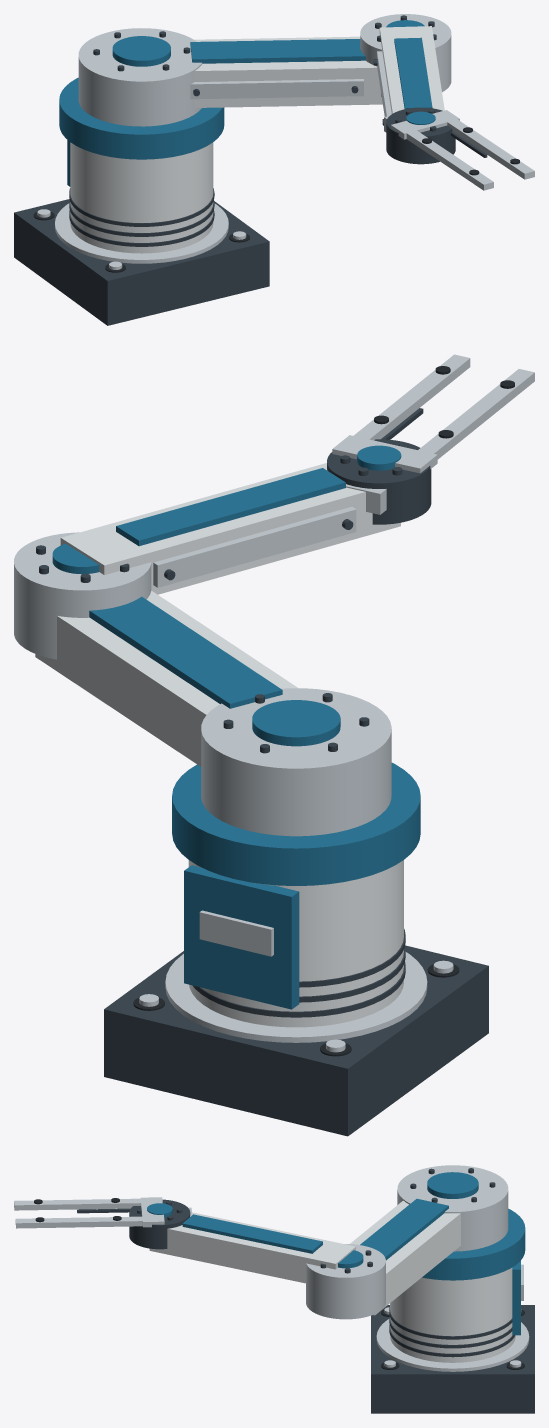
File: ATM_Robot.glb
The picture shows the model from 3 angles, top to bottom: view 1: azimuth 30°, elevation 25°; view 2: azimuth 150°, elevation 25°; view 3: azimuth 270°, elevation 25°; orthographic projection. The views are drawn at different scales.
Visible parts, largest first — view 1: Robot mounting block, Robot pedestal, Shoulder joint, Pedestal collar, Upper arm, Upper arm blue inset, Arm side reinforcement (×2), Pedestal lower flange, Ceramic end effector tine (×2), Forearm, Pedestal seal ring (×3), Elbow bearing (+4 smaller); view 2: Robot mounting block, Shoulder joint, Pedestal collar, Robot pedestal, Upper arm, Drive service cover, Forearm, Elbow bearing, Upper arm blue inset, Pedestal lower flange, Forearm inset, Arm side reinforcement (+6 smaller); view 3: Robot mounting block, Robot pedestal, Forearm, Shoulder joint, Elbow bearing, Upper arm, Pedestal collar, Ceramic end effector tine (×2), Upper arm blue inset, Pedestal lower flange, Forearm inset, Pedestal seal ring (×3) (+4 smaller).
Part boxes in pixels (x1,y1,x2,y2): Robot mounting block: [14, 199, 269, 325]; Robot pedestal: [70, 142, 213, 253]; Shoulder joint: [78, 28, 202, 126]; Pedestal collar: [59, 77, 224, 159]; Upper arm: [194, 36, 382, 107]; Upper arm blue inset: [190, 39, 365, 63]; Arm side reinforcement (×2): [190, 51, 391, 116]; Pedestal lower flange: [55, 203, 228, 263]; Ceramic end effector tine (×2): [396, 112, 534, 190]; Forearm: [379, 26, 444, 113]; Pedestal seal ring (×3): [69, 188, 214, 246]; Elbow bearing: [360, 14, 451, 96]; Robot mounting block: [104, 945, 488, 1136]; Shoulder joint: [201, 688, 391, 836]; Pedestal collar: [172, 762, 420, 885]; Robot pedestal: [188, 860, 403, 1027]; Upper arm: [35, 590, 298, 766]; Drive service cover: [184, 865, 299, 1009]; Forearm: [60, 463, 400, 594]; Elbow bearing: [14, 532, 151, 659]; Upper arm blue inset: [89, 596, 282, 708]; Pedestal lower flange: [165, 952, 427, 1042]; Forearm inset: [116, 468, 345, 546]; Arm side reinforcement: [153, 506, 356, 587]; Robot mounting block: [371, 1305, 534, 1413]; Robot pedestal: [390, 1267, 515, 1362]; Forearm: [149, 1212, 355, 1283]; Shoulder joint: [397, 1165, 508, 1251]; Elbow bearing: [306, 1244, 385, 1319]; Upper arm: [350, 1200, 460, 1315]; Pedestal collar: [422, 1208, 525, 1280]; Ceramic end effector tine (×2): [14, 1198, 160, 1228]; Upper arm blue inset: [360, 1198, 448, 1260]; Pedestal lower flange: [376, 1319, 529, 1371]; Forearm inset: [182, 1214, 322, 1253]; Pedestal seal ring (×3): [389, 1306, 514, 1357].
Bounding box in the file's own units: 0.6786 × 0.5005 × 1.08.
